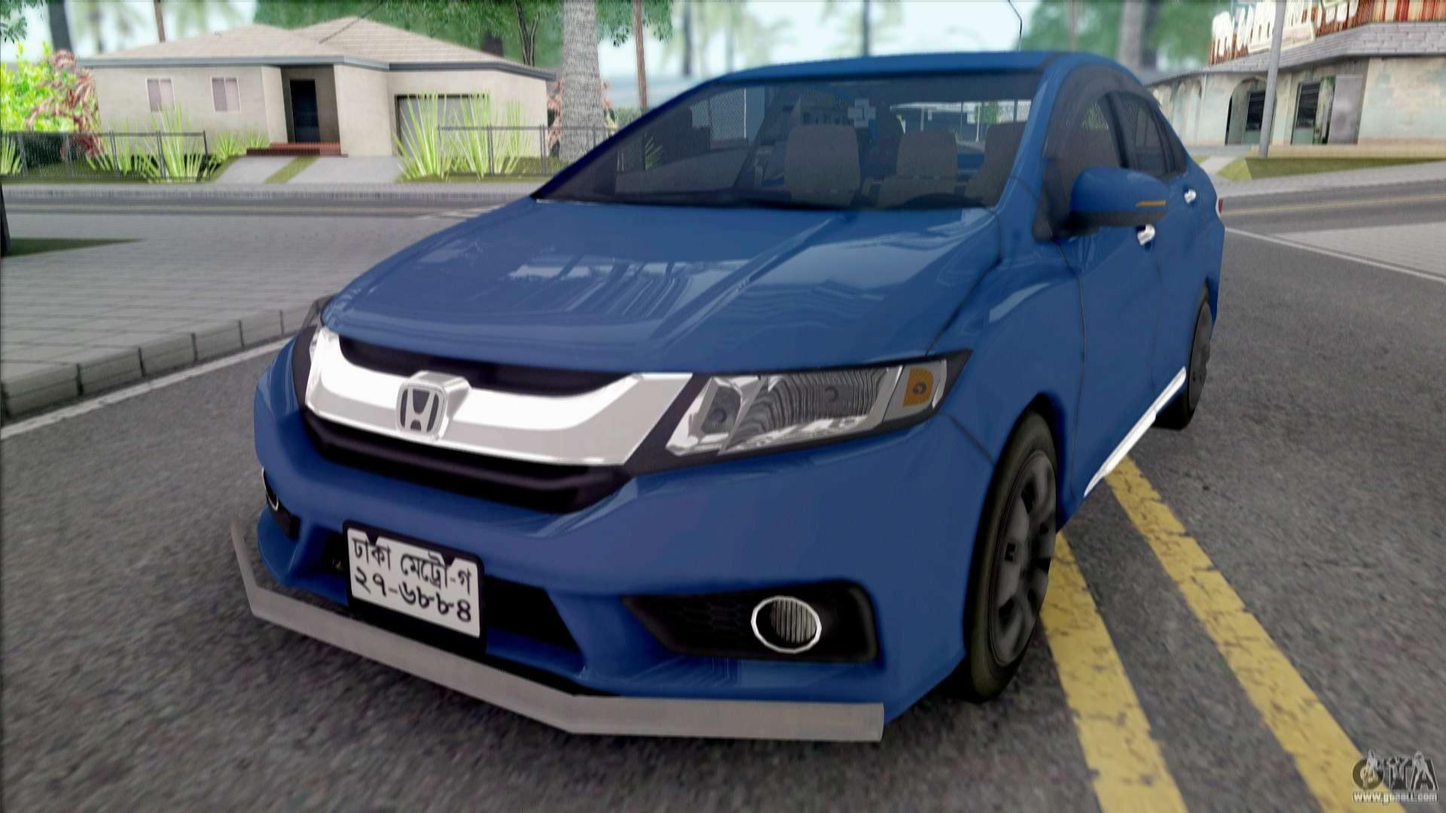Fender - -F-L-: (929, 170, 1087, 532)
Fender - -R-L-: (1179, 190, 1228, 400)
Front bumper: (223, 419, 1004, 764), (312, 189, 1008, 375)
Headlight - -L-: (645, 342, 982, 483)
Headlight - -R-: (277, 282, 350, 404)
Passenger-s door - -F-L-: (1058, 56, 1156, 504)
Passenger-s door - -R-L-: (1119, 59, 1219, 401), (1204, 173, 1239, 224)
Rear bumper: (1206, 229, 1240, 339)
Side bumper - -L-: (1053, 359, 1195, 537)
Side mirror - -L-: (1062, 152, 1176, 245)
